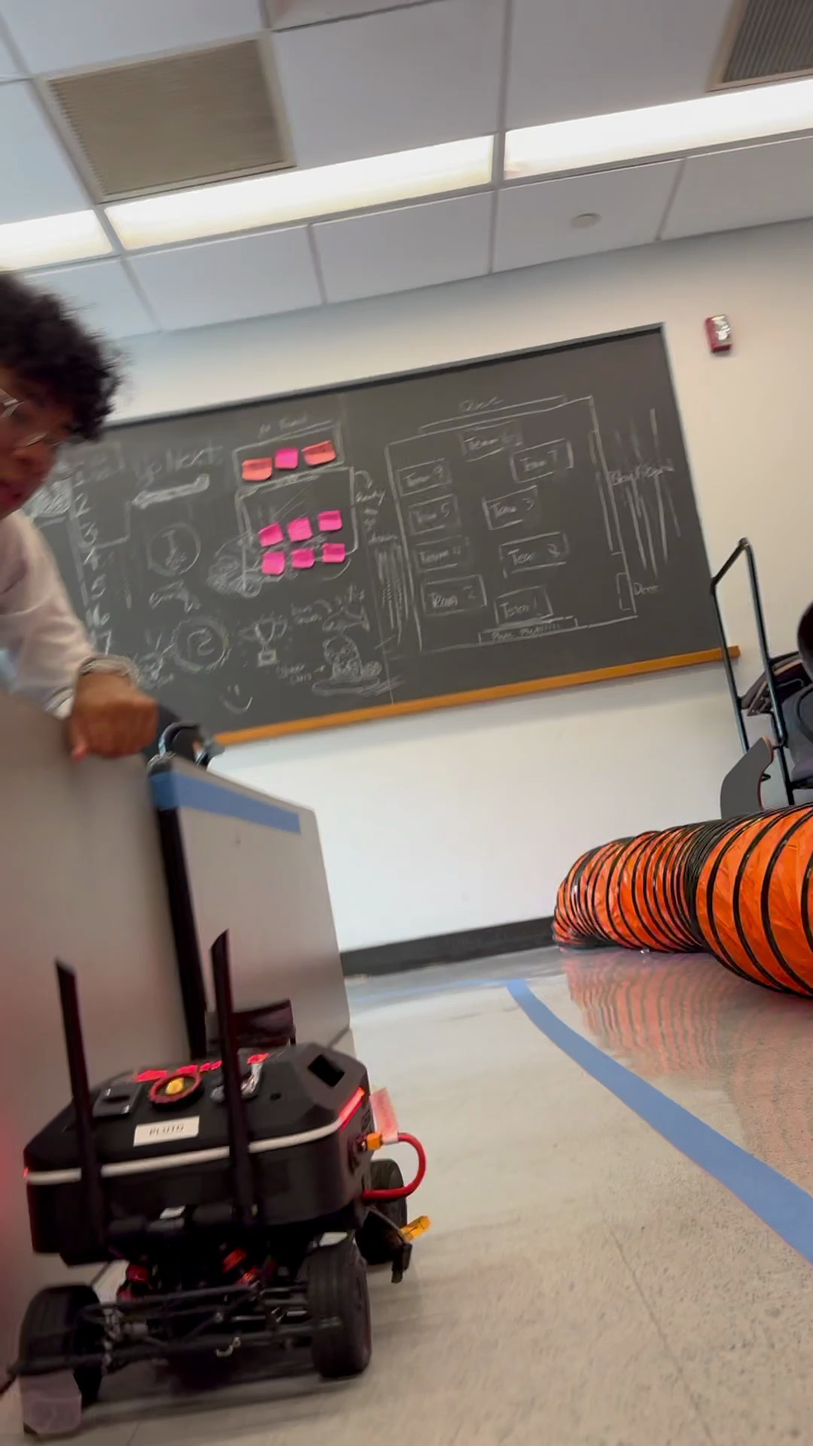racecar: (17, 930, 428, 1418)
